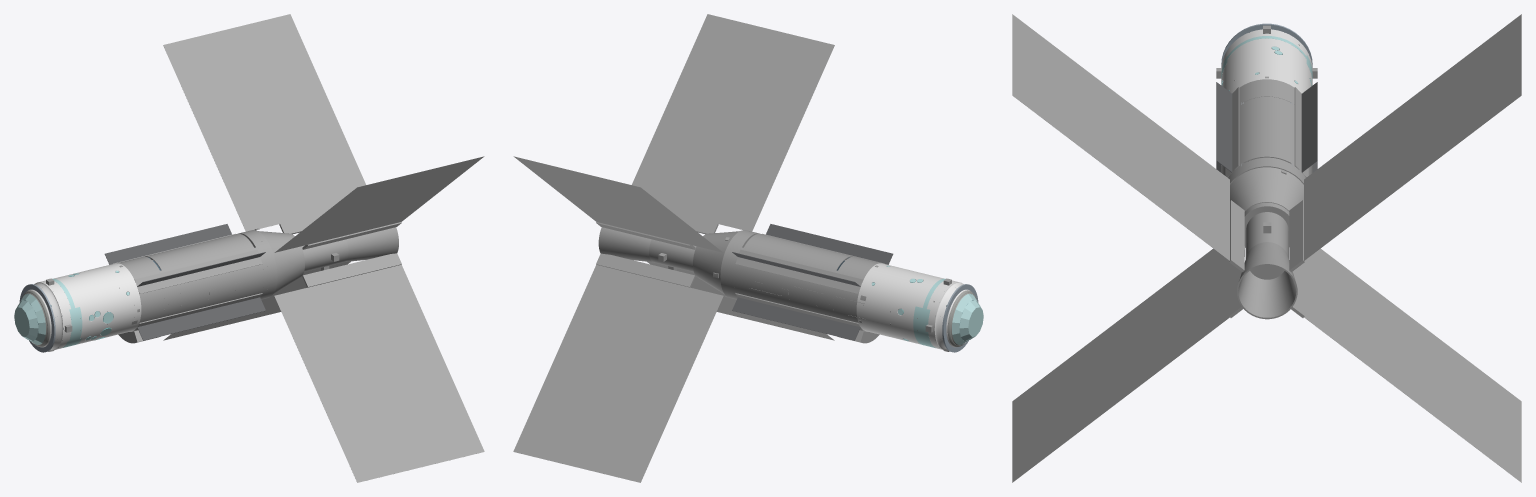
File: wayfarer_full_radiator_states_88ce19fc_metric_hard_stowed.glb
The picture shows the model from 3 angles, left to right: view 1: azimuth 30°, elevation 25°; view 2: azimuth 150°, elevation 25°; view 3: azimuth 270°, elevation 25°; orthographic projection. The views are drawn at different scales.
Parts seen in each view (by area): view 1: dry:hotfin_220:folded_envelope, dry:hotfin_40:folded_envelope, dry:hotfin_140:folded_envelope, dry:armor, dry:skin_midship, dry:strake_220:extended_pleat_00, dry:strake_140:stowed_stack, dry:strake_40:extended_pleat_00, dry:thrust_cone, dry:skin_service, dry:door_port, dry:hotfin_root_220:root (+7 smaller); view 2: dry:hotfin_320:folded_envelope, dry:hotfin_140:folded_envelope, dry:hotfin_40:folded_envelope, dry:armor, dry:skin_midship, dry:strake_320:extended_pleat_00, dry:strake_40:stowed_stack, dry:strake_140:extended_pleat_00, dry:skin_service, dry:thrust_cone, dry:door_starboard, dry:hotfin_root_320:root (+7 smaller); view 3: dry:hotfin_40:folded_envelope, dry:hotfin_140:folded_envelope, dry:hotfin_220:folded_envelope, dry:hotfin_320:folded_envelope, dry:armor, dry:nozzle, dry:thrust_cone, dry:reactor, dry:door_port, dry:door_starboard, dry:strake_40:extended_pleat_00, dry:strake_140:extended_pleat_00 (+9 smaller).
Boxes of the visible parts, bbox=[...] form: dry:hotfin_220:folded_envelope: bbox=[274, 264, 484, 482]; dry:hotfin_40:folded_envelope: bbox=[163, 14, 365, 231]; dry:hotfin_140:folded_envelope: bbox=[274, 156, 484, 252]; dry:armor: bbox=[23, 263, 141, 350]; dry:skin_midship: bbox=[160, 247, 263, 316]; dry:strake_220:extended_pleat_00: bbox=[137, 297, 265, 340]; dry:strake_140:stowed_stack: bbox=[134, 249, 262, 293]; dry:strake_40:extended_pleat_00: bbox=[104, 224, 231, 264]; dry:thrust_cone: bbox=[258, 231, 304, 293]; dry:skin_service: bbox=[117, 256, 168, 330]; dry:door_port: bbox=[152, 236, 253, 270]; dry:hotfin_root_220:root: bbox=[302, 253, 401, 287]; dry:hotfin_320:folded_envelope: bbox=[513, 264, 723, 482]; dry:hotfin_140:folded_envelope: bbox=[632, 14, 834, 231]; dry:hotfin_40:folded_envelope: bbox=[513, 156, 723, 252]; dry:armor: bbox=[856, 263, 974, 350]; dry:skin_midship: bbox=[734, 247, 837, 316]; dry:strake_320:extended_pleat_00: bbox=[732, 297, 860, 340]; dry:strake_40:stowed_stack: bbox=[735, 249, 863, 293]; dry:strake_140:extended_pleat_00: bbox=[766, 224, 893, 264]; dry:skin_service: bbox=[829, 256, 880, 330]; dry:thrust_cone: bbox=[693, 231, 739, 293]; dry:door_starboard: bbox=[744, 236, 845, 270]; dry:hotfin_root_320:root: bbox=[596, 253, 695, 287]; dry:hotfin_40:folded_envelope: bbox=[1304, 14, 1521, 260]; dry:hotfin_140:folded_envelope: bbox=[1012, 14, 1229, 260]; dry:hotfin_220:folded_envelope: bbox=[1012, 248, 1229, 482]; dry:hotfin_320:folded_envelope: bbox=[1304, 248, 1521, 482]; dry:armor: bbox=[1221, 29, 1312, 93]; dry:nozzle: bbox=[1237, 242, 1297, 319]; dry:thrust_cone: bbox=[1230, 167, 1303, 247]; dry:reactor: bbox=[1245, 212, 1288, 279]; dry:door_port: bbox=[1242, 97, 1266, 163]; dry:door_starboard: bbox=[1267, 97, 1291, 163]; dry:strake_40:extended_pleat_00: bbox=[1301, 82, 1317, 172]; dry:strake_140:extended_pleat_00: bbox=[1216, 82, 1232, 172].
Size of the model in its own units: 54.5 by 42.11 by 50.18.
